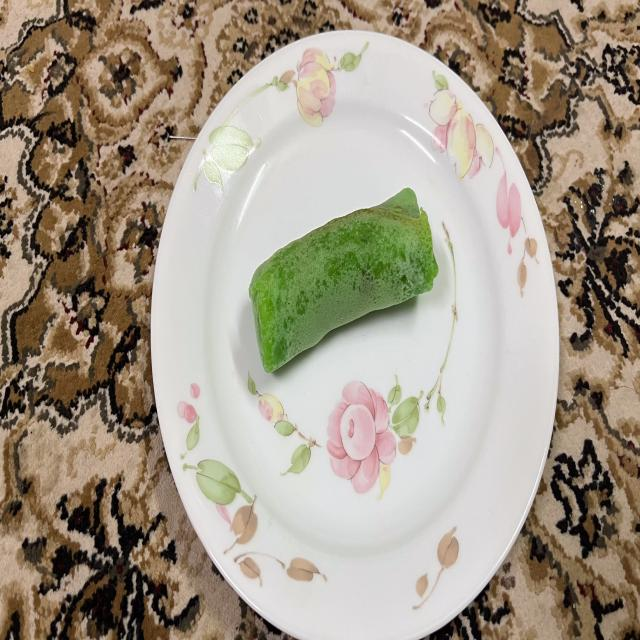Kuih-Ketayap: (249, 189, 439, 373)
